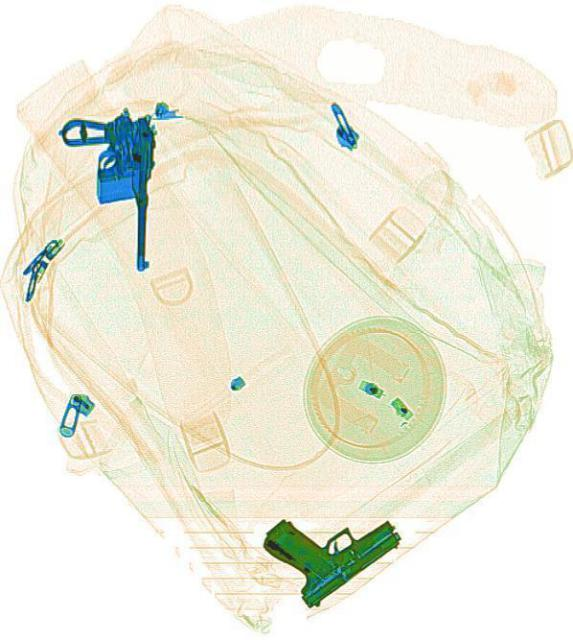Gun: (253, 463, 406, 612), (51, 100, 156, 272)
